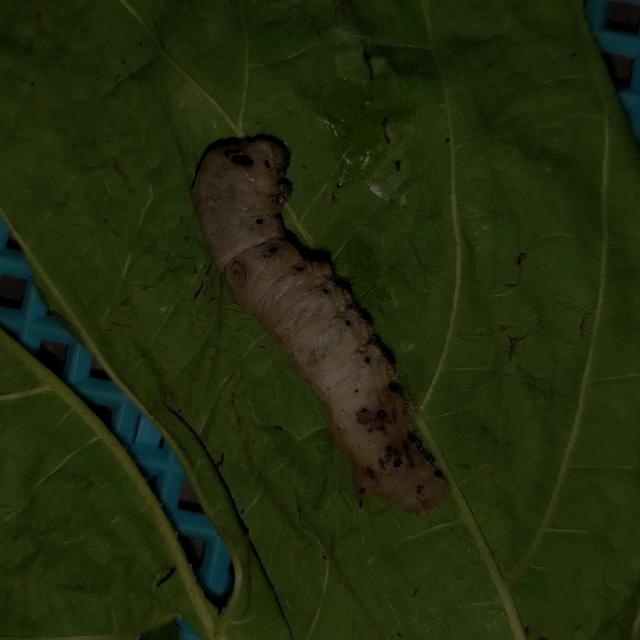Grasserie: (166, 102, 484, 536)
